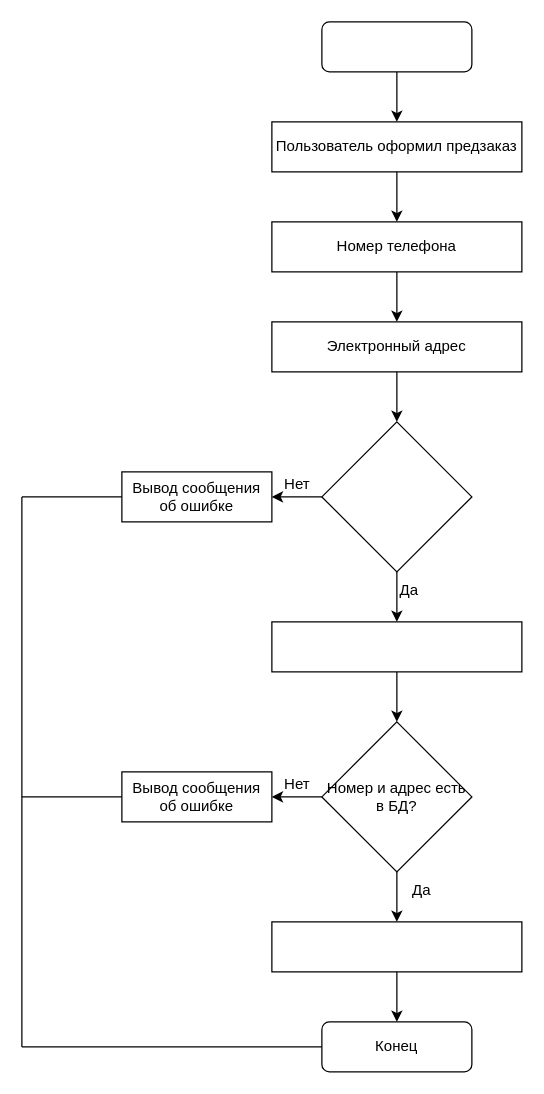
Image size: 544x1094. Some labels were removed from this diagram. Each missing label, with the centre of its shape:
Начало: point (396, 46)
Поля заполнено корректно?: point (396, 496)
появляется сообщение об отмене предзаказа: point (396, 946)
Проверка наличия номера и адреса в БД: point (396, 646)
